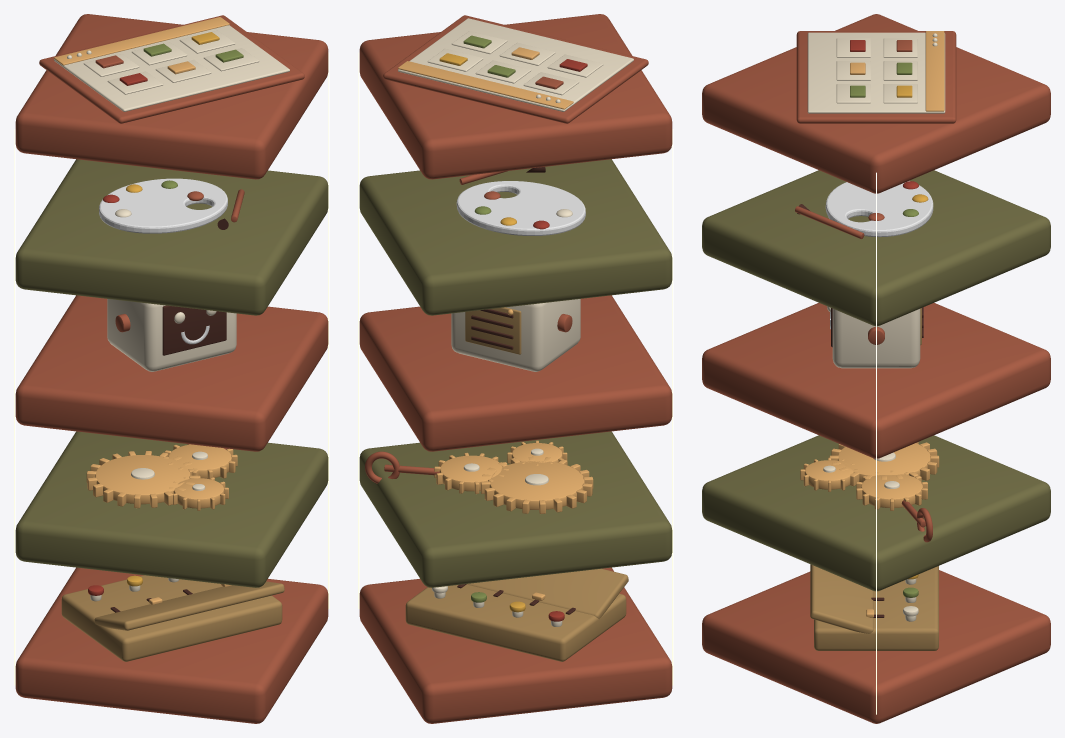
The model's file is stack_layers.glb.
3 views of the same model, side by side, from view 1: azimuth 30°, elevation 25°; view 2: azimuth 150°, elevation 25°; view 3: azimuth 270°, elevation 25° (orthographic). The views are drawn at different scales.
Parts seen in each view (by area): view 1: layer_4, layer_2, layer_1, layer_3, layer_0, threads; view 2: layer_4, layer_0, layer_3, layer_1, layer_2, threads; view 3: layer_4, layer_0, layer_1, layer_3, layer_2.
Part boxes in pixels (x1=…): layer_4: x1=15, y1=14, x2=328, y2=179; layer_2: x1=15, y1=295, x2=328, y2=451; layer_1: x1=15, y1=431, x2=328, y2=587; layer_3: x1=15, y1=159, x2=328, y2=315; layer_0: x1=15, y1=567, x2=328, y2=723; threads: x1=14, y1=52, x2=329, y2=685; layer_4: x1=359, y1=14, x2=672, y2=179; layer_0: x1=359, y1=567, x2=672, y2=723; layer_3: x1=359, y1=159, x2=672, y2=315; layer_1: x1=359, y1=431, x2=672, y2=587; layer_2: x1=359, y1=295, x2=672, y2=451; threads: x1=358, y1=52, x2=673, y2=685; layer_4: x1=702, y1=14, x2=1050, y2=193; layer_0: x1=702, y1=564, x2=1050, y2=723; layer_1: x1=702, y1=435, x2=1050, y2=591; layer_3: x1=702, y1=170, x2=1050, y2=326; layer_2: x1=702, y1=303, x2=1050, y2=458.
Size of the model in its own units: 2.81 by 5.13 by 2.77.
